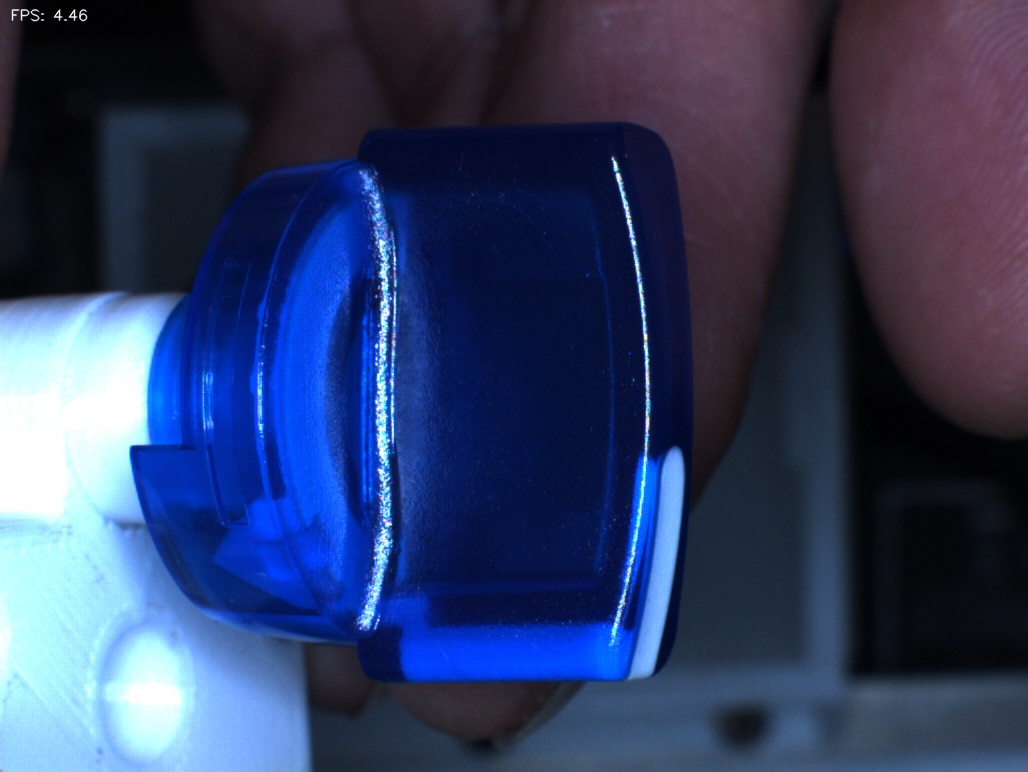Givrage: (443, 133, 560, 268)
